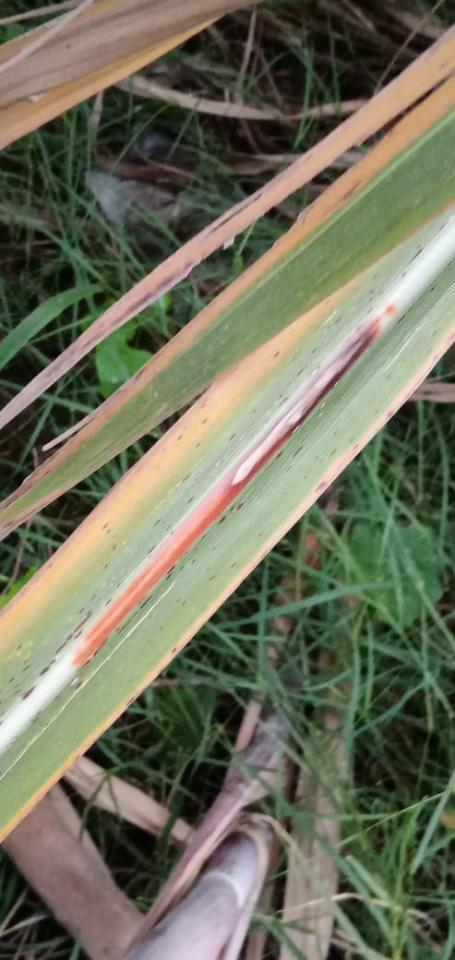RedRot: (74, 316, 383, 669), (385, 305, 395, 315)
Yellow: (0, 320, 454, 846), (0, 76, 454, 513), (0, 271, 366, 672)
